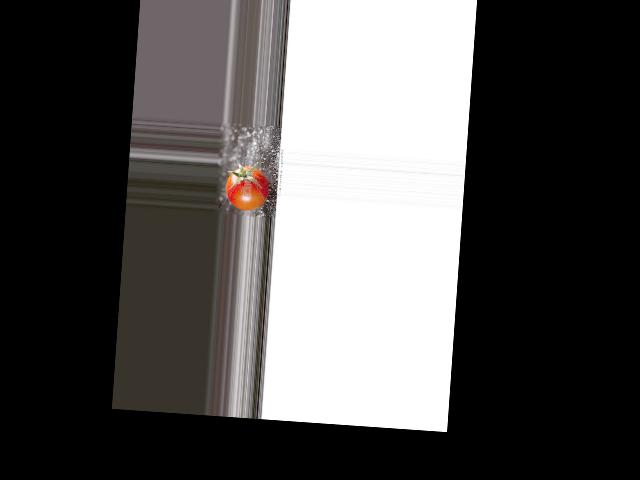tomato: (224, 164, 270, 211)
